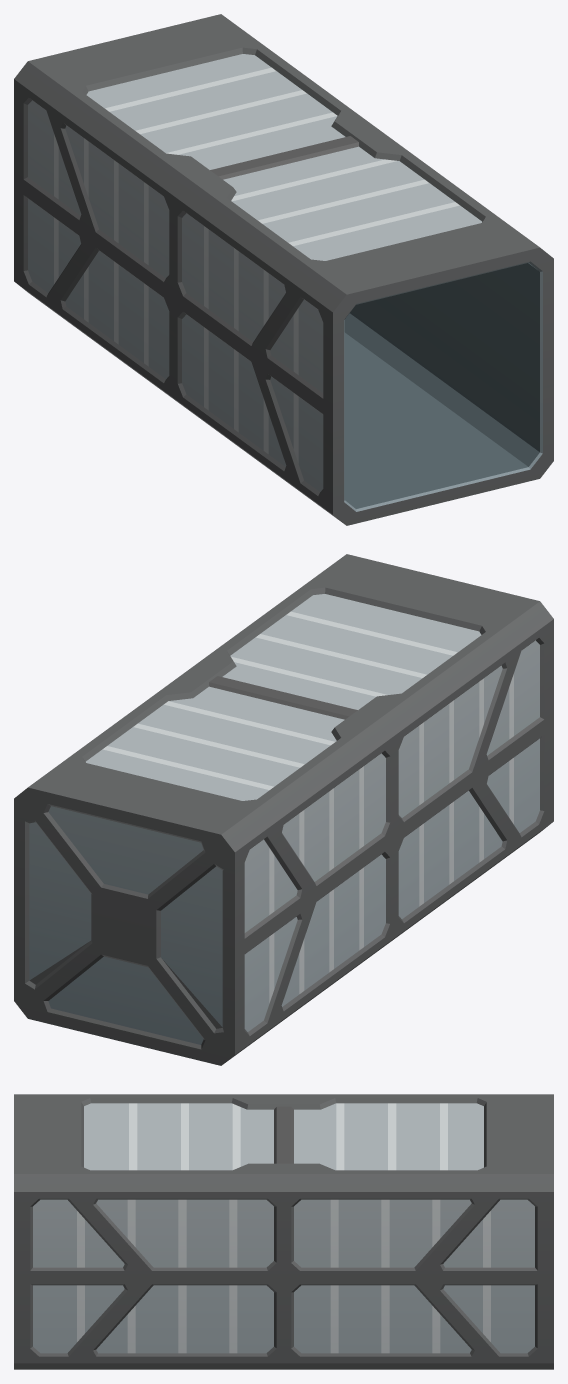
Rendered from Container_type_A_007.fbx.
The picture shows the model from 3 angles, top to bottom: view 1: azimuth 30°, elevation 25°; view 2: azimuth 150°, elevation 25°; view 3: azimuth 270°, elevation 25°; orthographic projection. The views are drawn at different scales.
Visible parts, largest first — view 1: Container_type_A_007; view 2: Container_type_A_007; view 3: Container_type_A_007.
Boxes of the visible parts, x1,y1,x2,y2 form: Container_type_A_007: [14, 14, 553, 525]; Container_type_A_007: [14, 554, 553, 1065]; Container_type_A_007: [14, 1094, 553, 1369].
Bounding box in the file's own units: 240 × 600 × 240.
